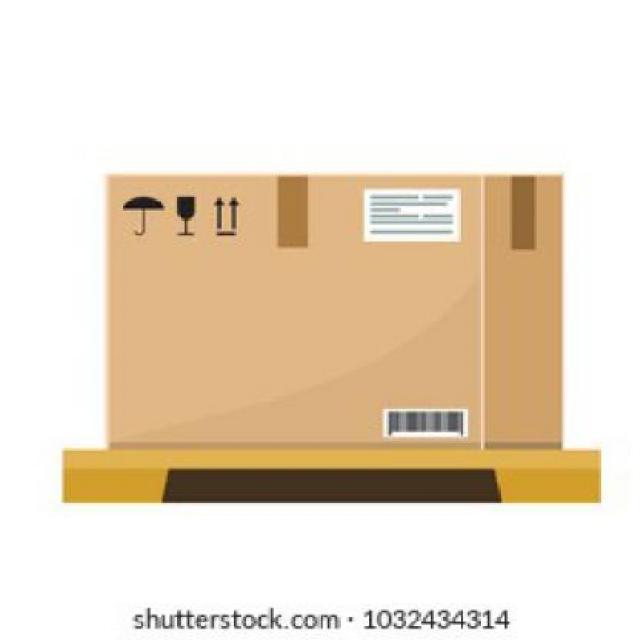box: (100, 168, 572, 453)
